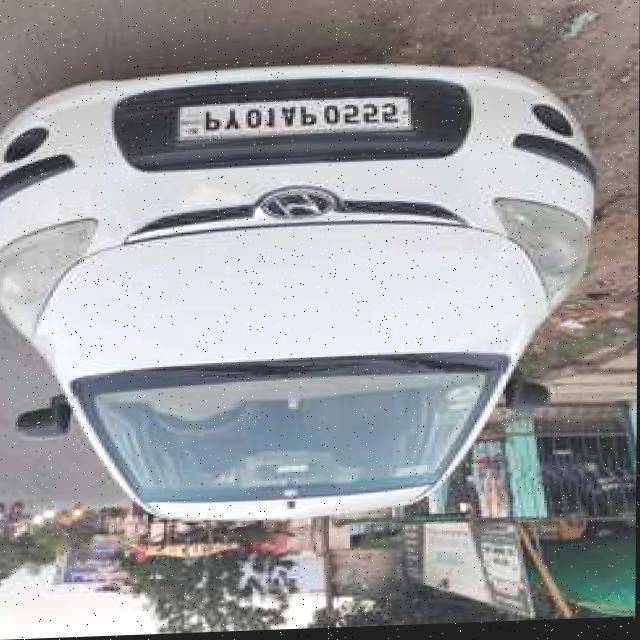plate: (178, 98, 408, 143)
